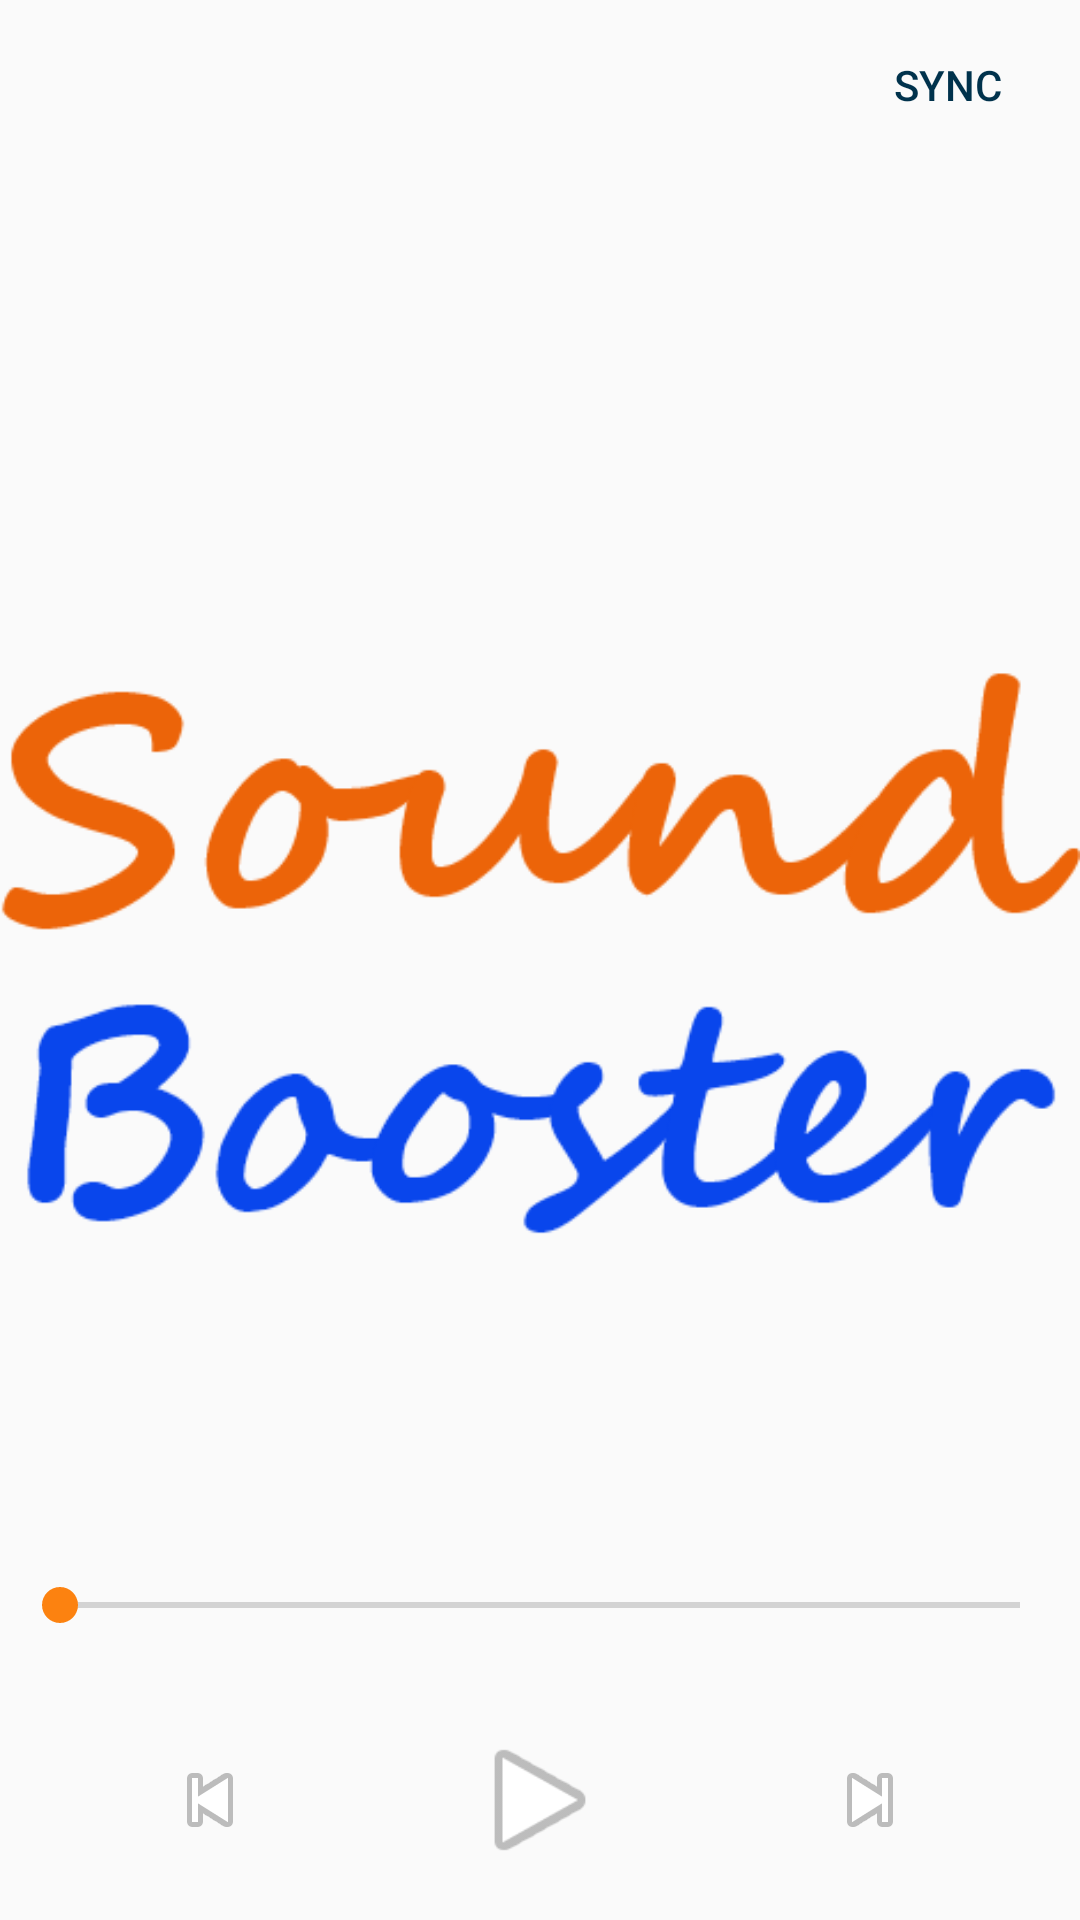

Icons on this 1080*1920 Android screen, each with its box as box=[x1, y1, x2, y2]:
next: box=[847, 1773, 893, 1827]
play: box=[495, 1750, 585, 1850]
previous: box=[187, 1773, 233, 1827]
